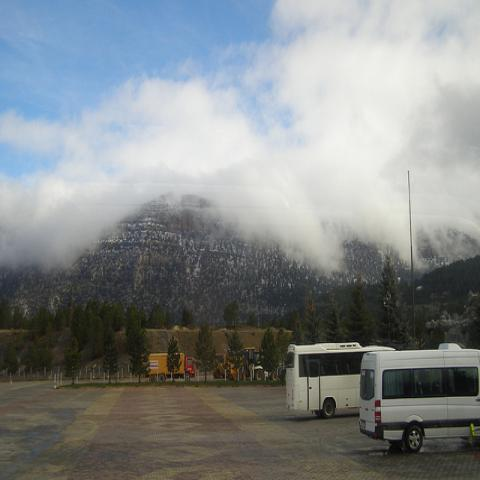bus: (358, 339, 479, 453), (286, 342, 397, 420)
truck: (148, 354, 196, 382)
